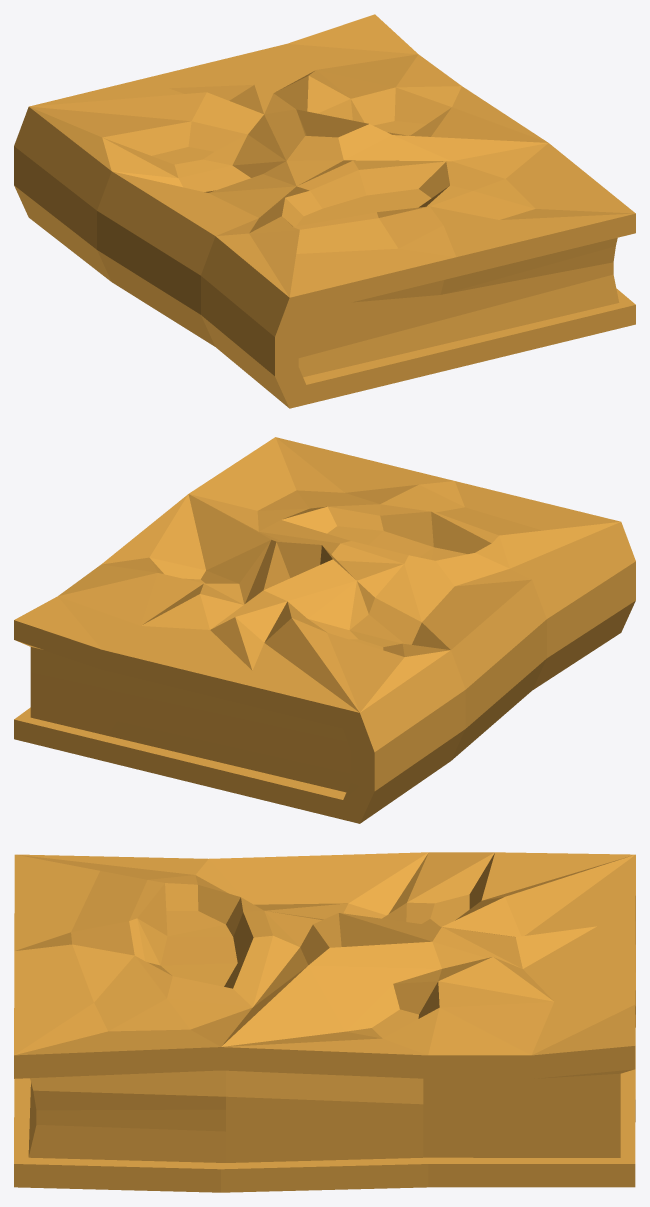
File: book-evil.fbx
The picture shows the model from 3 angles, top to bottom: view 1: azimuth 30°, elevation 25°; view 2: azimuth 150°, elevation 25°; view 3: azimuth 270°, elevation 25°; orthographic projection. The views are drawn at different scales.
Visible parts, largest first — view 1: book-evil; view 2: book-evil; view 3: book-evil.
Part boxes in pixels (x1=…): book-evil: x1=14, y1=14, x2=635, y2=408; book-evil: x1=14, y1=437, x2=635, y2=823; book-evil: x1=14, y1=852, x2=635, y2=1192.
Bounding box in the file's own units: 0.1996 × 0.07 × 0.2418.
